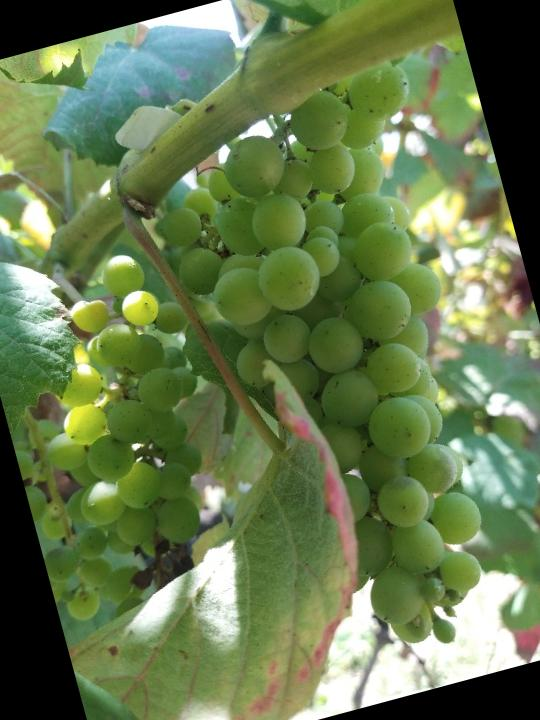grape: (128, 59, 540, 691), (4, 245, 244, 609)
